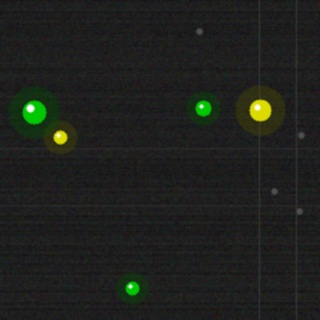green_normal: (20, 98, 48, 126), (193, 98, 213, 118), (123, 279, 141, 297)
yellow_warning: (247, 97, 273, 123), (51, 128, 69, 146)
